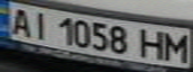0: (69, 17, 93, 50)
1: (51, 15, 75, 46)
5: (90, 20, 112, 52)
8: (109, 22, 133, 56)
A: (3, 6, 36, 37)
H: (136, 27, 169, 61)
I: (27, 9, 54, 40)
M: (163, 30, 193, 63)
